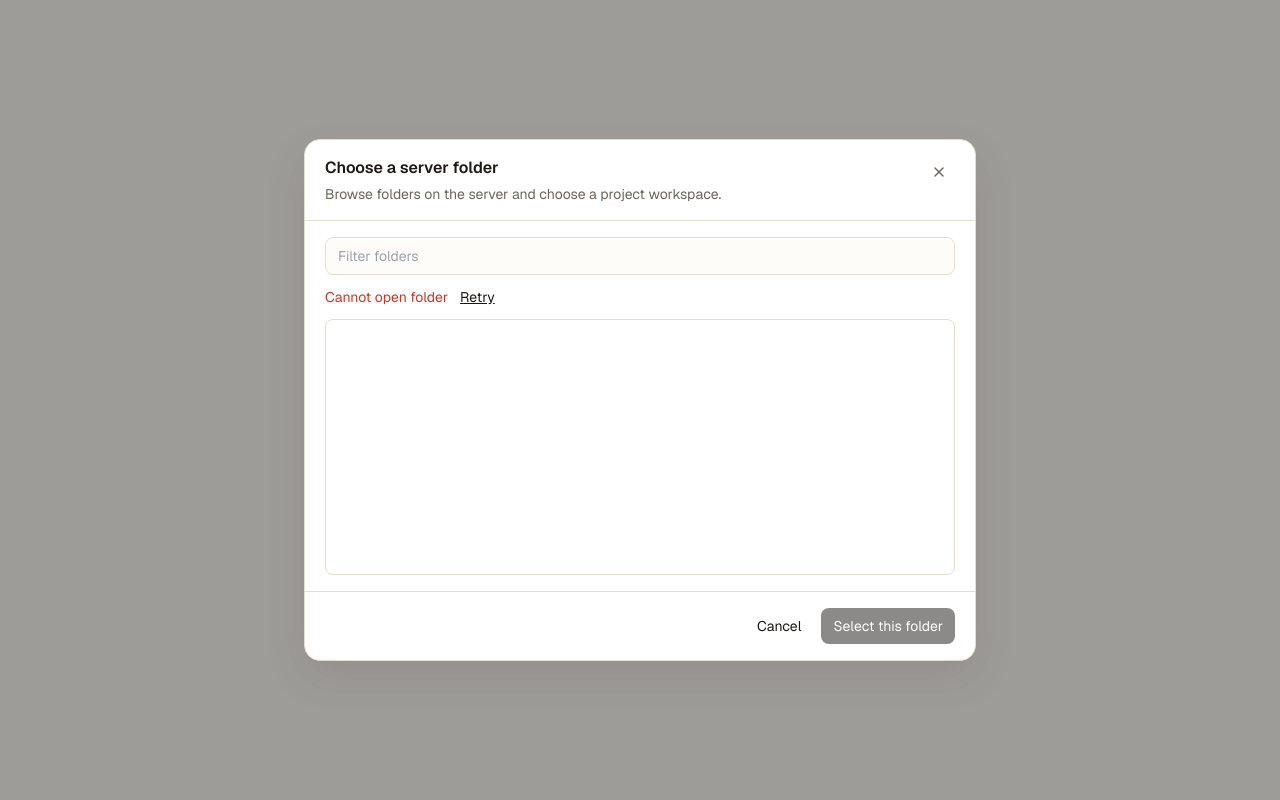
Test case: keeps a failed folder load unselectable and allows retry
The image size is (1280, 800).
Expected: the message "Cannot open folder" is shown, [325, 287, 448, 307]
Expected: the button "Select this folder" is disabled, [821, 608, 955, 644]
Click the button "Retry". click: click(477, 297)
box: [460, 287, 495, 307]
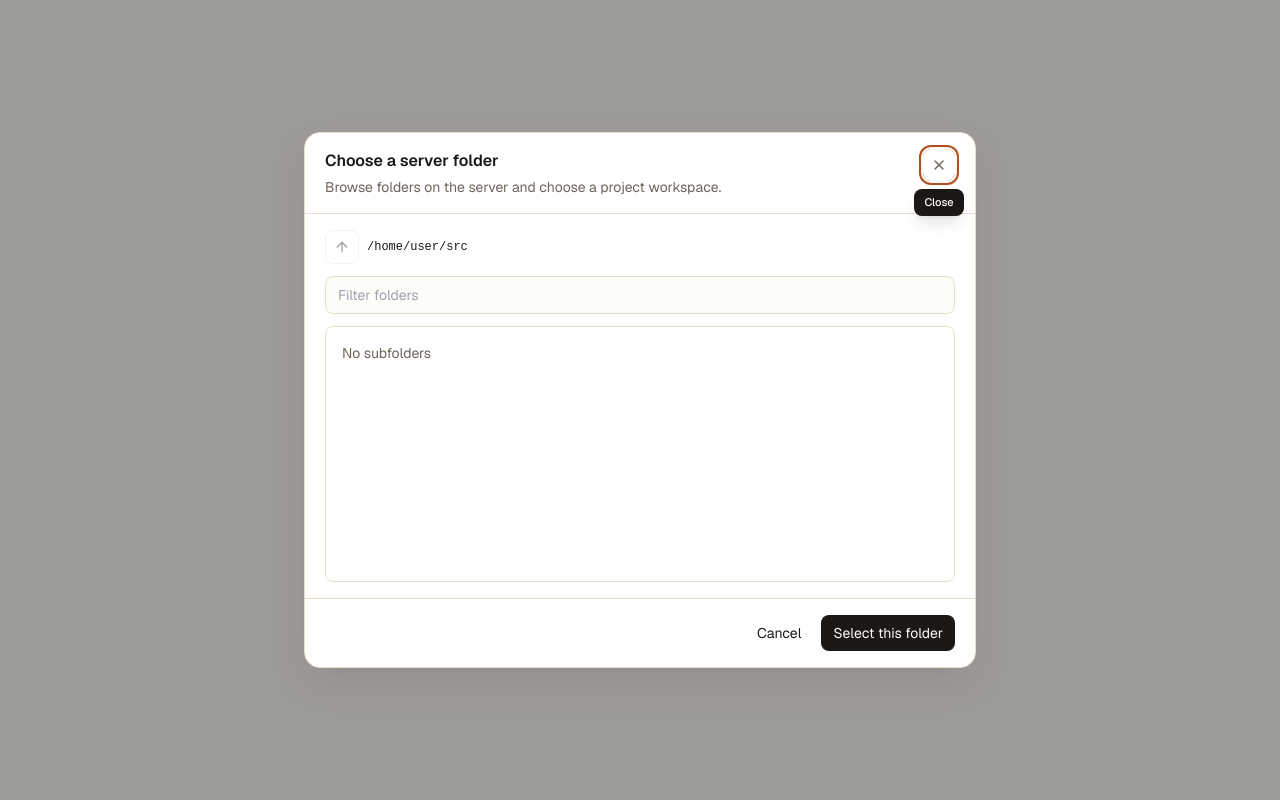
Now the text "No subfolders" is shown, box [342, 344, 431, 362]
Now the button "Select this folder" is enabled, box [821, 615, 955, 651]
